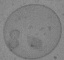small: (29, 36, 43, 48), (8, 40, 20, 49), (10, 30, 20, 37)
